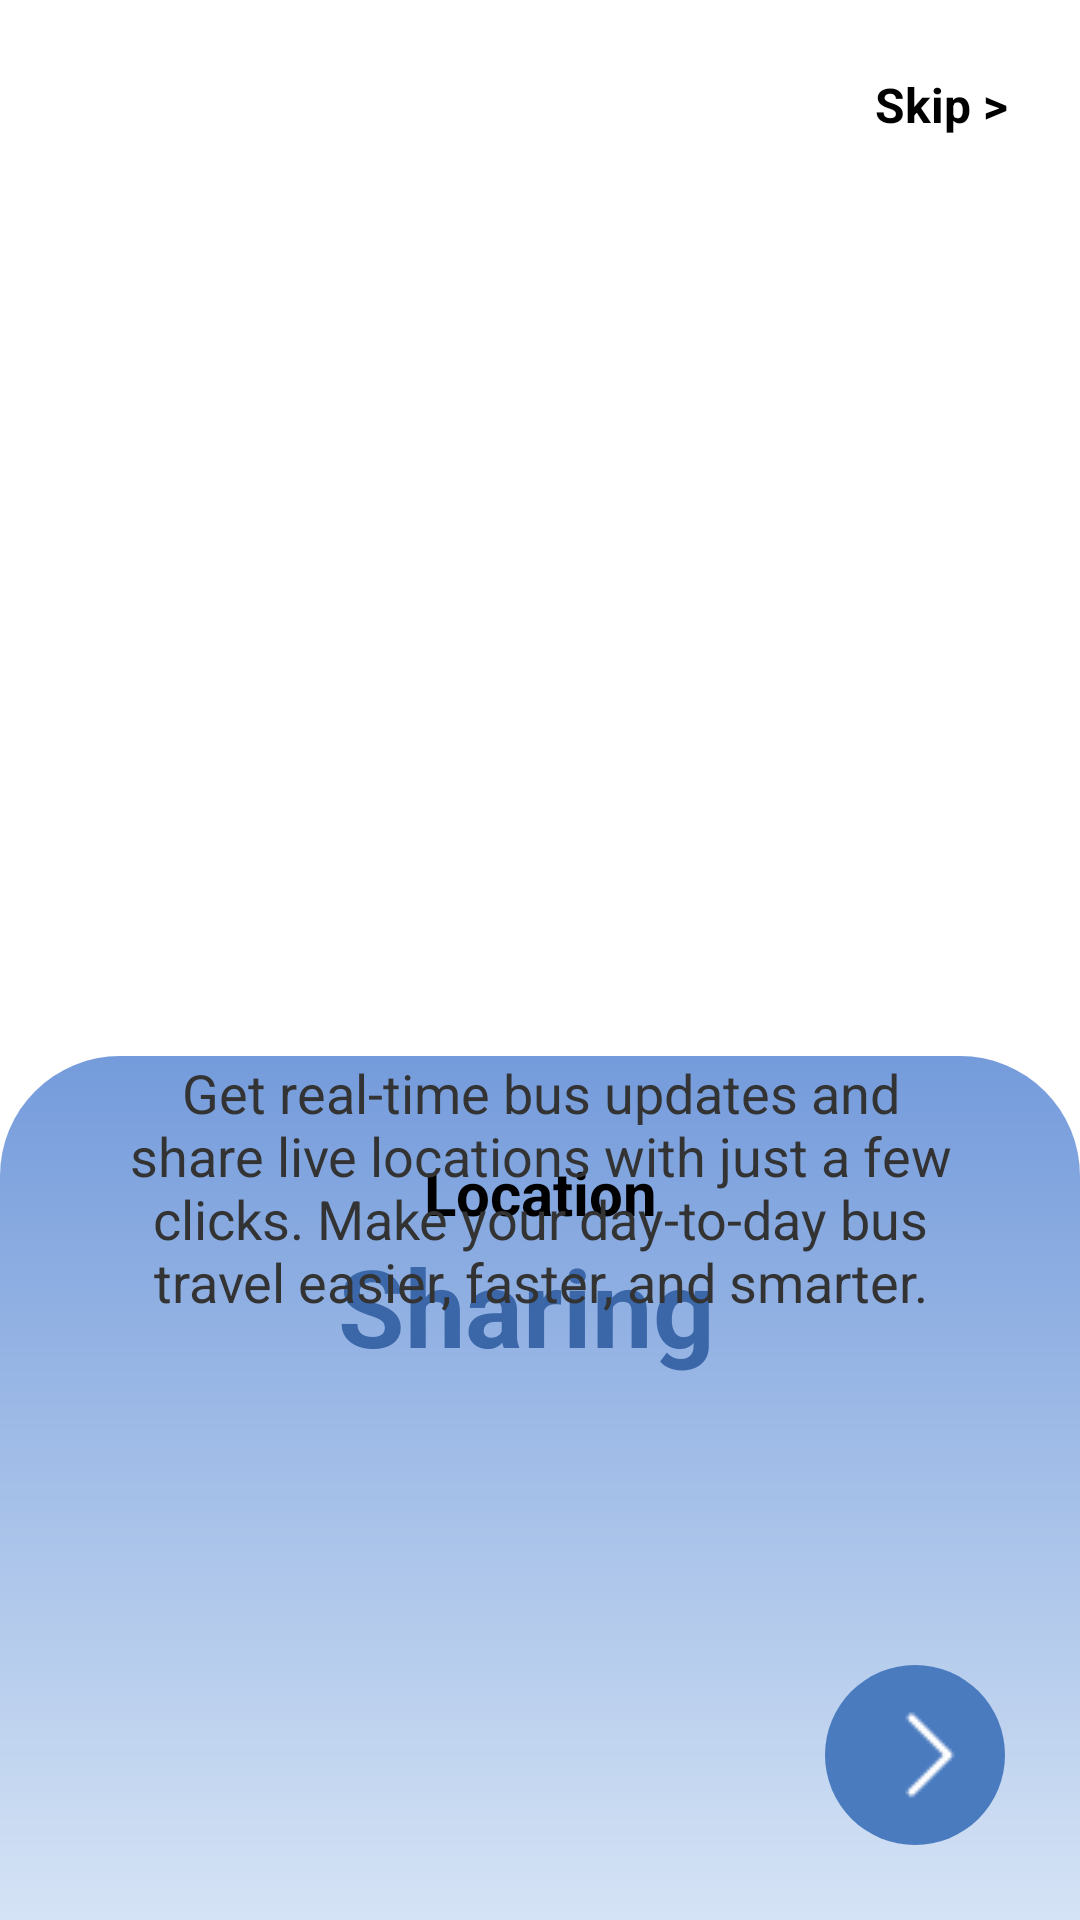

Point at icon controls on the screen. Image size 1080 x 1920, points as (x,y).
arrow: (915,1755)
